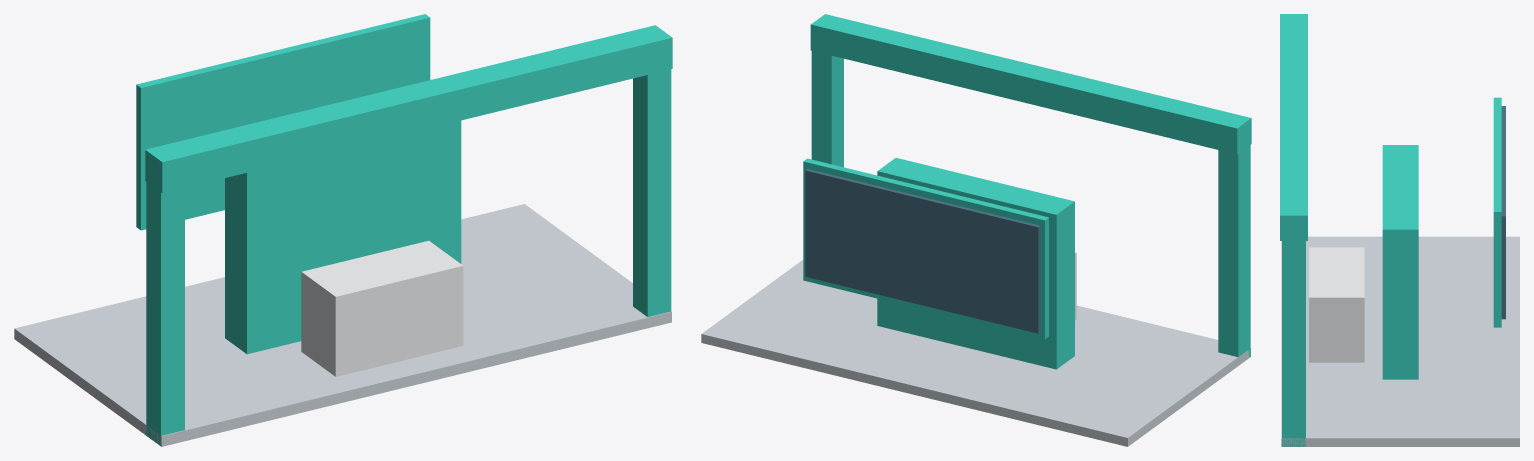
The picture shows the model from 3 angles, left to right: view 1: azimuth 30°, elevation 25°; view 2: azimuth 150°, elevation 25°; view 3: azimuth 270°, elevation 25°; orthographic projection. The views are drawn at different scales.
Parts seen in each view (by area): view 1: Exhibition Booth Concept; view 2: Exhibition Booth Concept; view 3: Exhibition Booth Concept.
Boxes of the visible parts, box(x1,y1,x2,y2) form: Exhibition Booth Concept: box(14, 14, 672, 446); Exhibition Booth Concept: box(701, 14, 1251, 446); Exhibition Booth Concept: box(1280, 14, 1519, 446).
Bounding box in the file's own units: 6 × 3.2 × 3.01.
